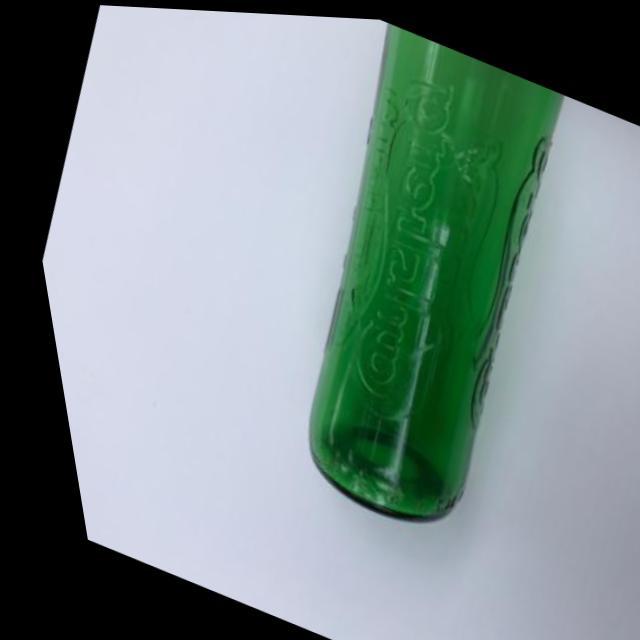glass: (142, 6, 640, 601)
